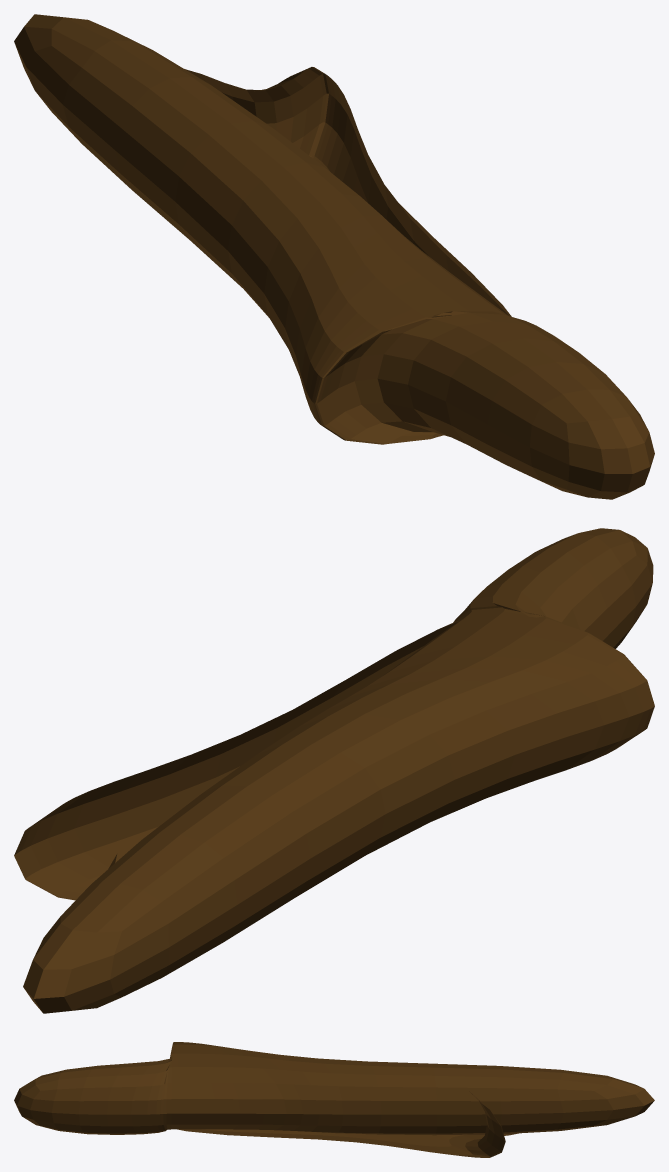
The model's file is WoodMesh.fbx.
3 renders of one model, top to bottom at view 1: azimuth 30°, elevation 25°; view 2: azimuth 150°, elevation 25°; view 3: azimuth 270°, elevation 25°, orthographic. The views are drawn at different scales.
Visible parts, largest first — view 1: Wood; view 2: Wood; view 3: Wood.
Part boxes in pixels (left/top/right/bottom): Wood: left=14, top=14, right=654, bottom=499; Wood: left=14, top=528, right=654, bottom=1013; Wood: left=14, top=1042, right=654, bottom=1157.
Bounding box in the file's own units: 18.62 × 6.61 × 59.67.
